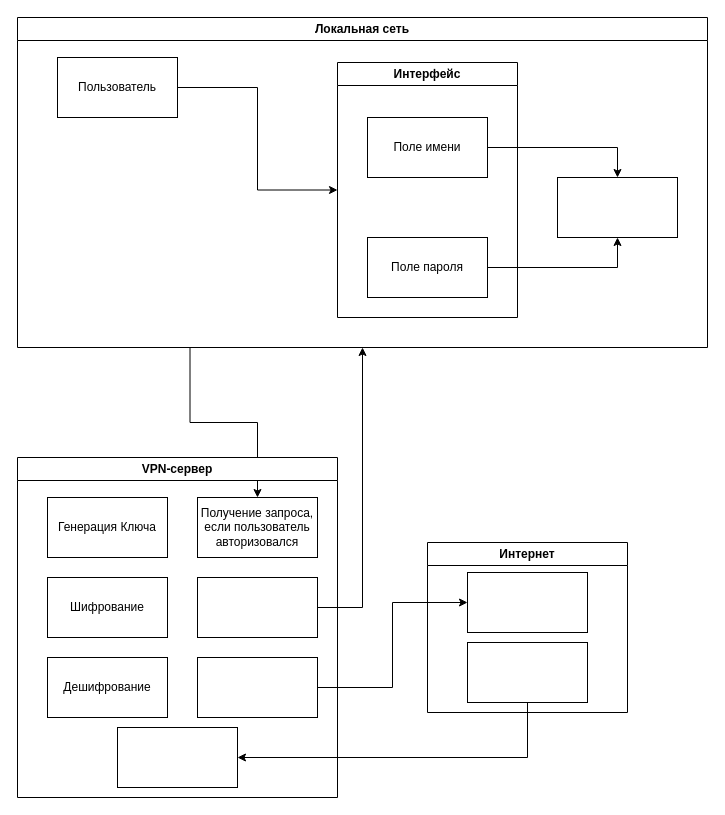
The diagram is 725 pixels wide and 815 high, and some of its shapes have lost their labels. Each missing label, with the centre of its shape:
База данных: pixel 617 207
Передача информации в Интернет: pixel 257 687
Передача информации пользователю: pixel 257 607
Передача ответа: pixel 527 672
Получение запроса: pixel 527 602
Получение информации от Интернета: pixel 177 757
